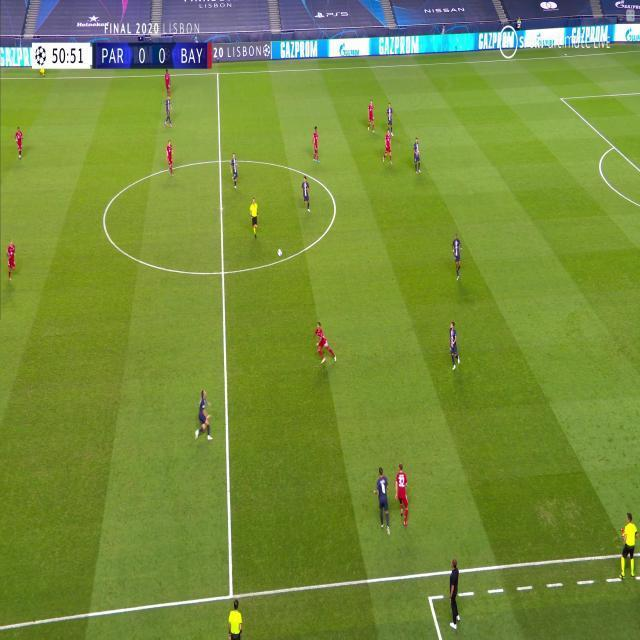ball: (278, 247, 283, 256)
player: (375, 467, 392, 534), (194, 388, 214, 441), (314, 322, 337, 365), (395, 463, 410, 526), (448, 321, 461, 370), (451, 234, 463, 280), (6, 238, 18, 282), (382, 130, 395, 165), (300, 176, 311, 212), (230, 151, 240, 189), (166, 139, 175, 178), (14, 125, 24, 160), (311, 125, 320, 163), (412, 137, 421, 174), (164, 96, 174, 127), (367, 99, 375, 133), (164, 71, 173, 99), (386, 104, 394, 133)
referee: (618, 511, 639, 581), (227, 599, 242, 640), (249, 197, 259, 239)
